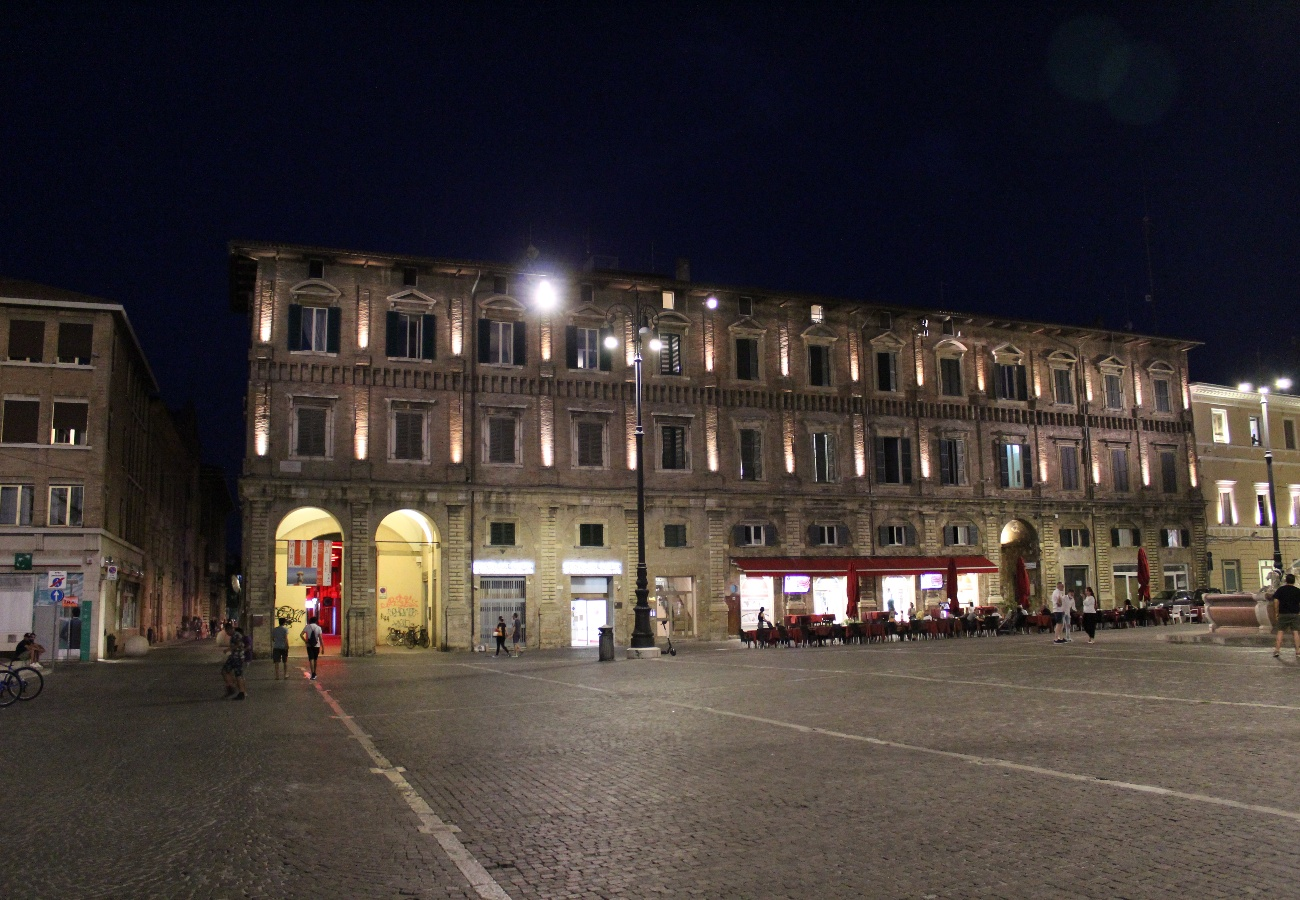Palazzo Baviera: (245, 241, 1199, 667)
